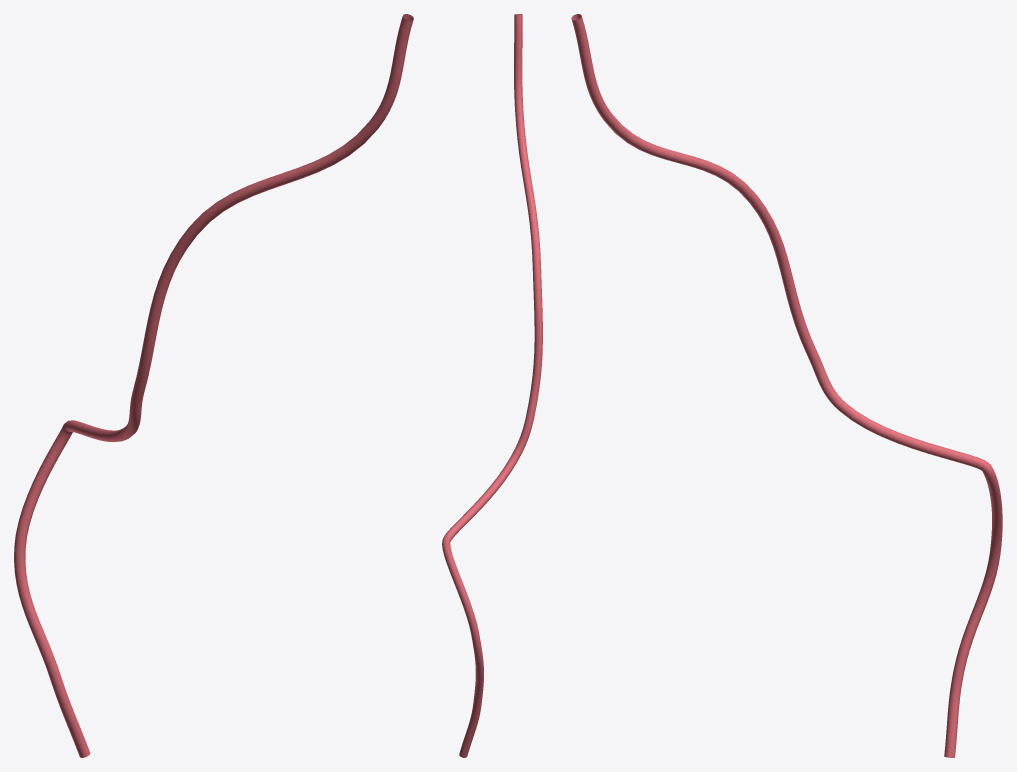
3 renders of one model, left to right at view 1: azimuth 30°, elevation 25°; view 2: azimuth 150°, elevation 25°; view 3: azimuth 270°, elevation 25°, orthographic. The views are drawn at different scales.
Parts seen in each view (by area): view 1: ZA_5674d693ba426f05; view 2: ZA_5674d693ba426f05; view 3: ZA_5674d693ba426f05.
Part boxes in pixels (<box>): ZA_5674d693ba426f05: <box>14,14,413,757</box>; ZA_5674d693ba426f05: <box>442,14,542,757</box>; ZA_5674d693ba426f05: <box>571,14,1002,757</box>.
Bounding box in the file's own units: 0.0312 × 0.1457 × 0.0713.
